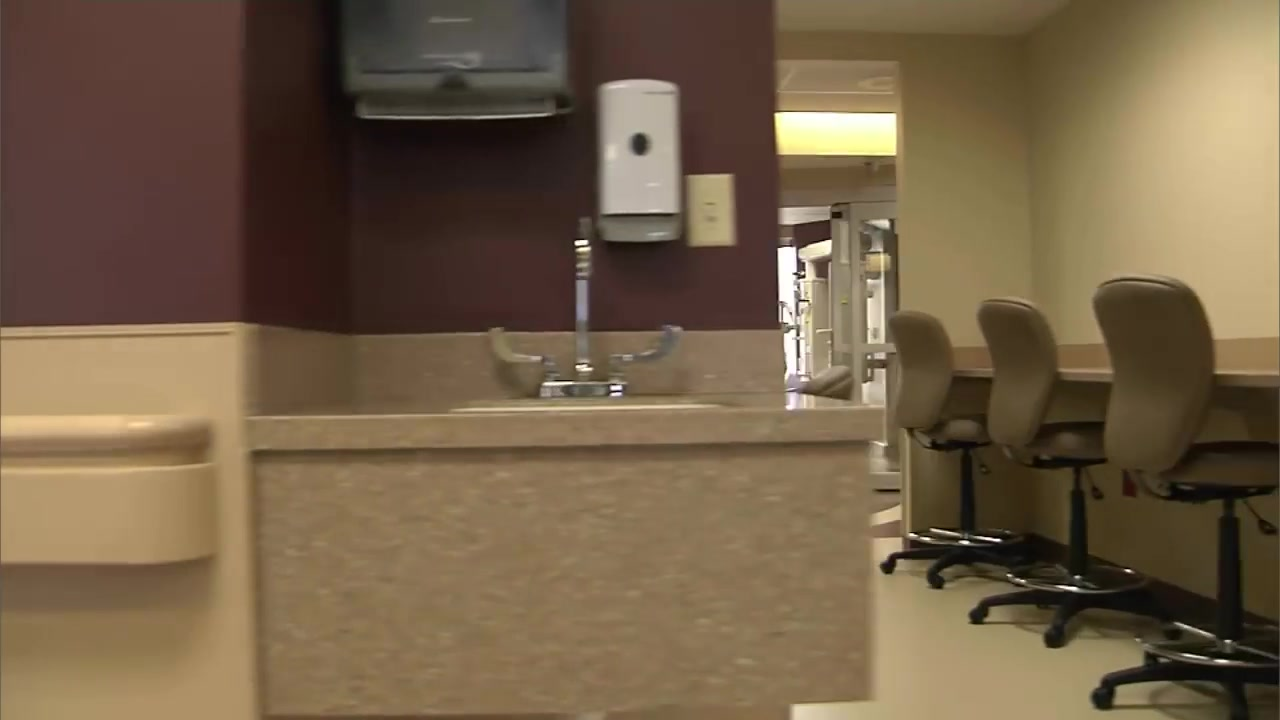chair: (1089, 274, 1280, 720), (968, 295, 1183, 649), (879, 309, 1027, 589), (794, 365, 855, 399)
counter: (237, 405, 876, 706)
countertop: (262, 398, 867, 419), (954, 367, 1280, 388)
dispenser: (343, 1, 576, 120), (593, 78, 688, 242)
faucet: (487, 216, 684, 400)
hallway_assist_bar: (1, 413, 214, 452)
light_switch: (685, 173, 737, 247)
sink: (449, 403, 730, 430)
